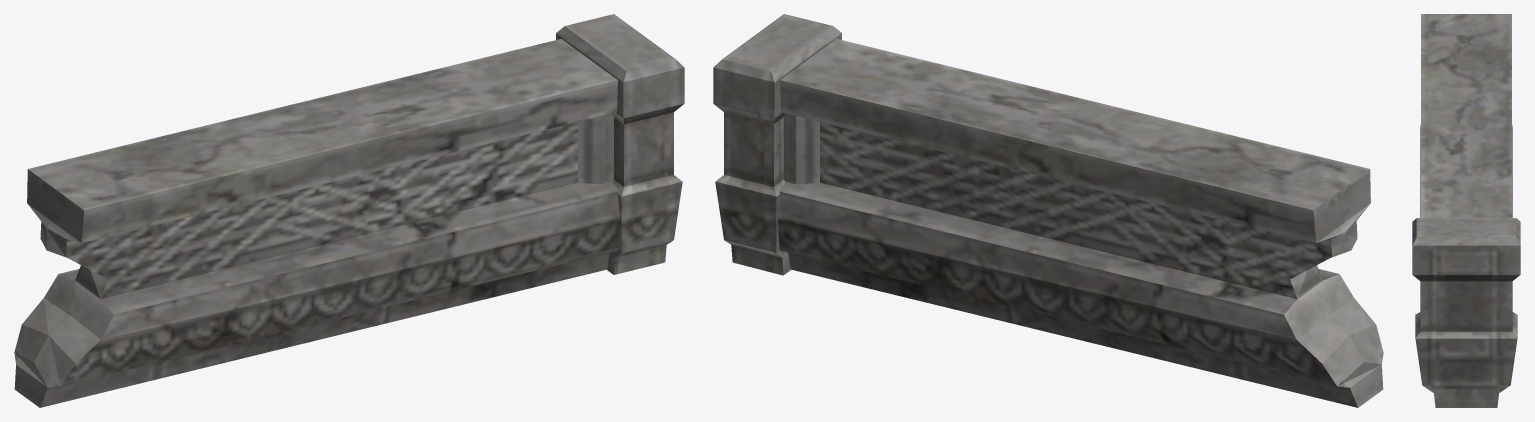
The model's file is SM_EN_2010_shilangan01.FBX.
The picture shows the model from 3 angles, left to right: view 1: azimuth 30°, elevation 25°; view 2: azimuth 150°, elevation 25°; view 3: azimuth 270°, elevation 25°; orthographic projection. The views are drawn at different scales.
Visible parts, largest first — view 1: SM_EN_2010_shilangan01; view 2: SM_EN_2010_shilangan01; view 3: SM_EN_2010_shilangan01.
Boxes of the visible parts, x1,y1,x2,y2 form: SM_EN_2010_shilangan01: (14, 14, 684, 407); SM_EN_2010_shilangan01: (713, 14, 1383, 407); SM_EN_2010_shilangan01: (1412, 14, 1520, 407).
Size of the model in its own units: 188 by 61.12 by 35.2.
